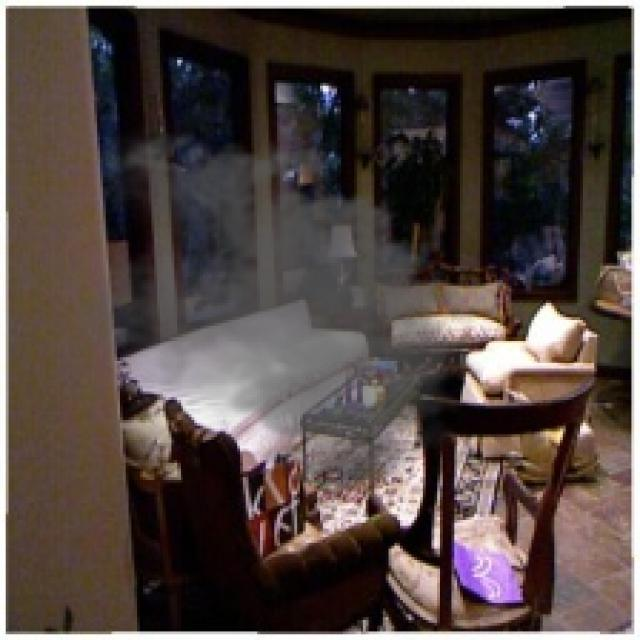Smoke: (77, 120, 486, 489)
